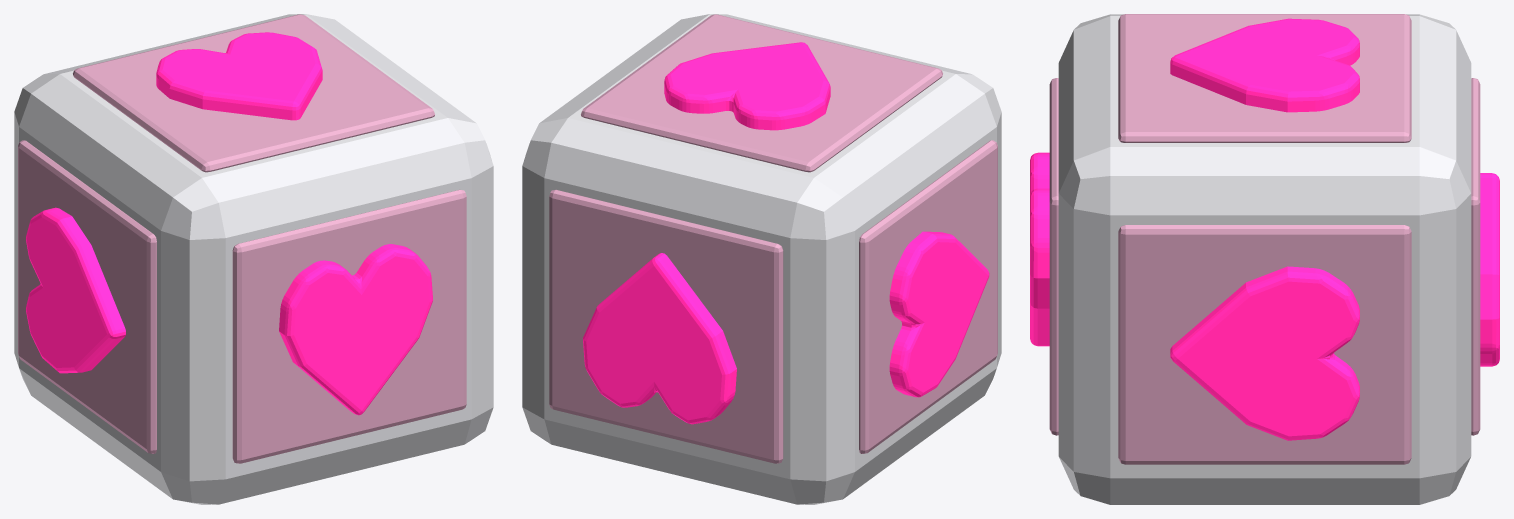
Rendered from coracao.glb.
3 renders of one model, left to right at view 1: azimuth 30°, elevation 25°; view 2: azimuth 150°, elevation 25°; view 3: azimuth 270°, elevation 25°, orthographic. The views are drawn at different scales.
Visible parts, largest first — view 1: Malha_Moldura_Bloco_Coracao, Malha_Coracoes_Bloco; view 2: Malha_Moldura_Bloco_Coracao, Malha_Coracoes_Bloco; view 3: Malha_Moldura_Bloco_Coracao, Malha_Coracoes_Bloco.
Boxes of the visible parts, x1=… form: Malha_Moldura_Bloco_Coracao: x1=14, y1=14, x2=493, y2=504; Malha_Coracoes_Bloco: x1=26, y1=32, x2=432, y2=415; Malha_Moldura_Bloco_Coracao: x1=522, y1=14, x2=1001, y2=504; Malha_Coracoes_Bloco: x1=583, y1=42, x2=989, y2=424; Malha_Moldura_Bloco_Coracao: x1=1049, y1=14, x2=1480, y2=504; Malha_Coracoes_Bloco: x1=1030, y1=18, x2=1499, y2=440.
Size of the model in its own units: 1.46 by 1.31 by 1.46.
